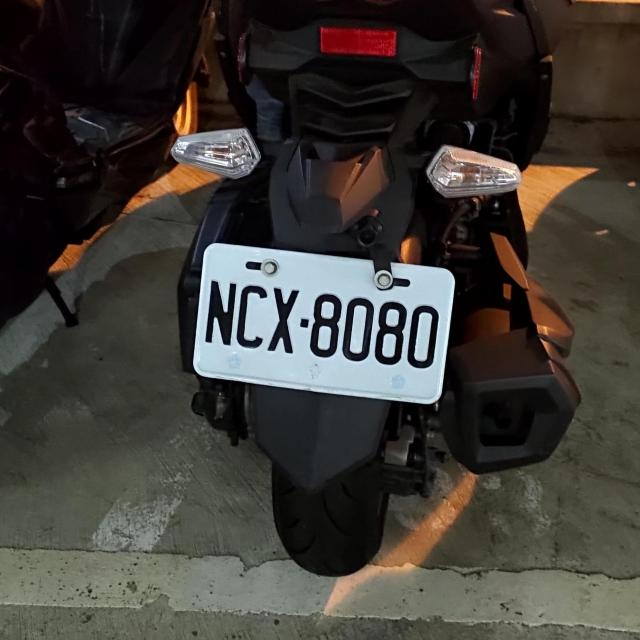W: (185, 239, 459, 404)
